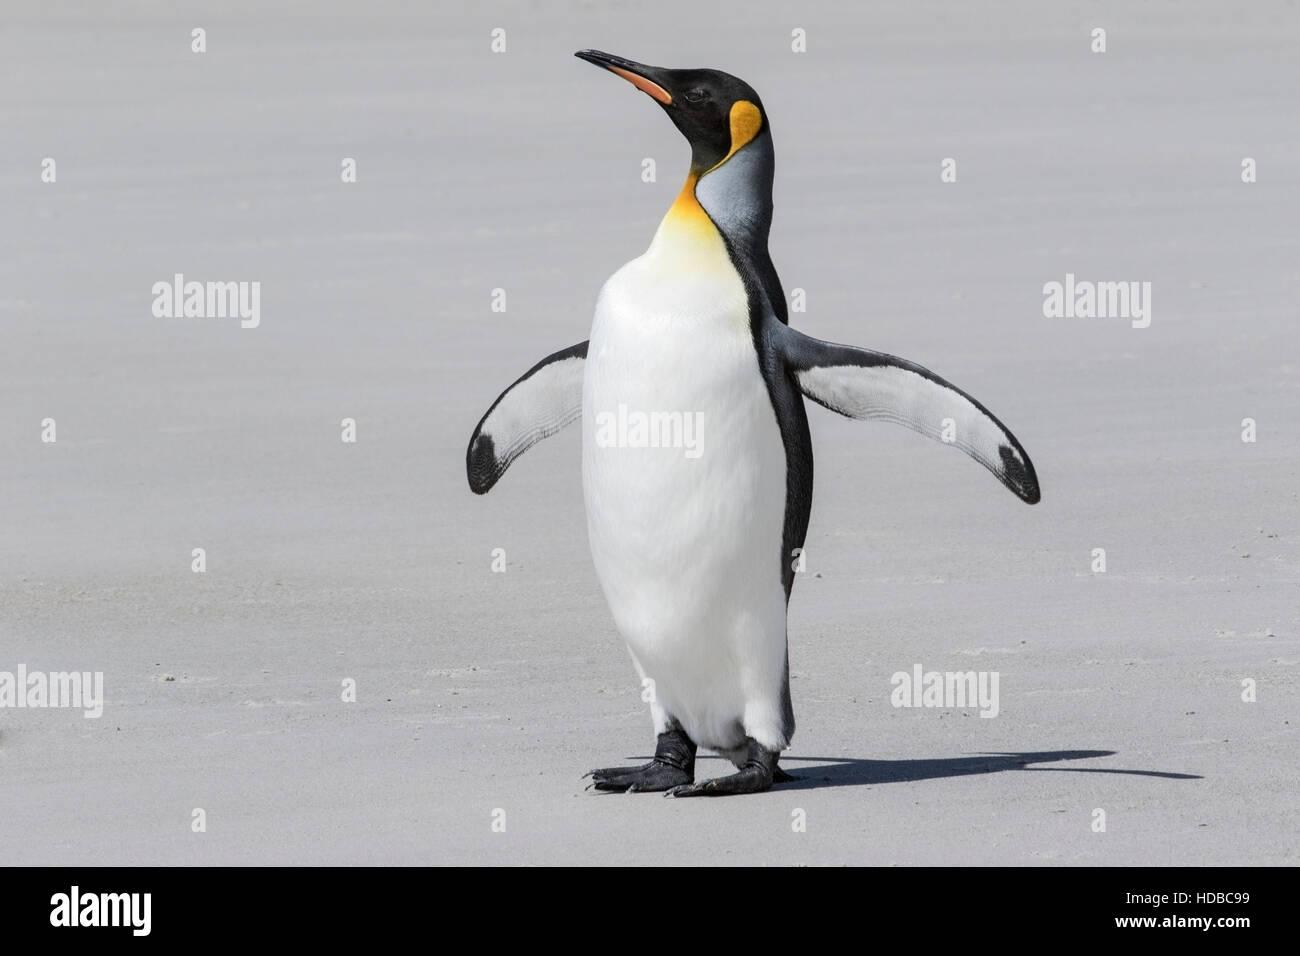king: (415, 8, 1070, 832)
